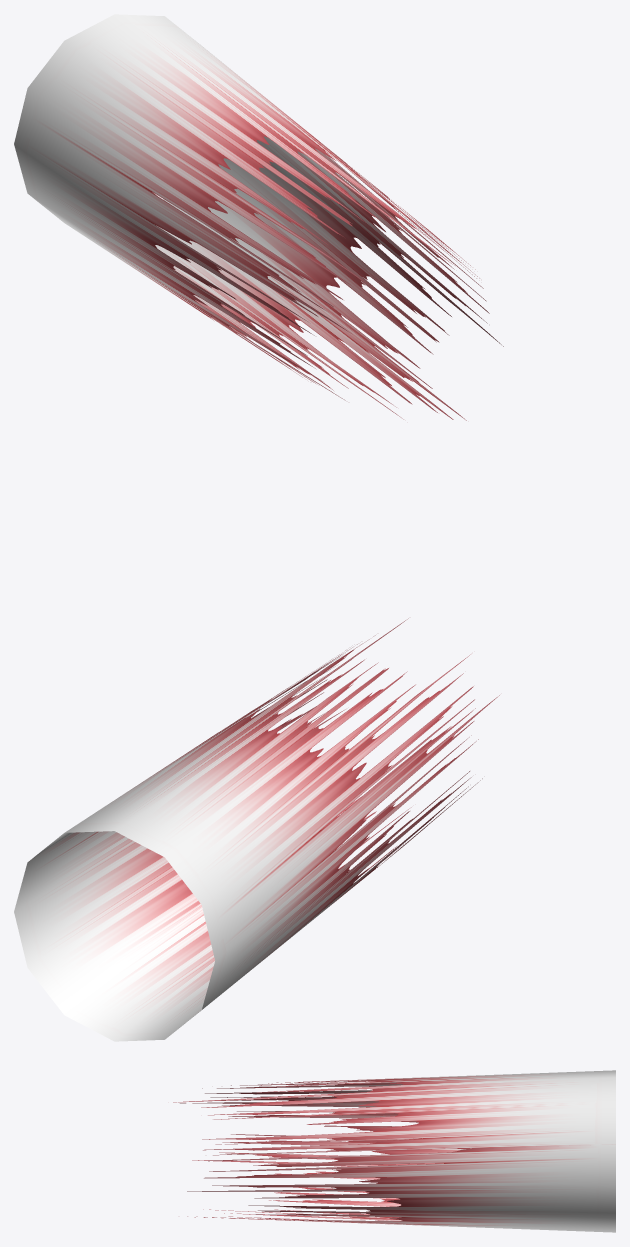
The model's file is Effect1.obj.
3 views of the same model, one above another, from view 1: azimuth 30°, elevation 25°; view 2: azimuth 150°, elevation 25°; view 3: azimuth 270°, elevation 25° (orthographic). The views are drawn at different scales.
Visible parts, largest first — view 1: Cylinder001; view 2: Cylinder001; view 3: Cylinder001.
Boxes of the visible parts, <box> form: Cylinder001: <box>14,14,503,420</box>; Cylinder001: <box>14,618,499,1041</box>; Cylinder001: <box>173,1070,615,1232</box>.
Size of the model in its own units: 32.5 by 32.5 by 120.
1 material, 1 textured.
